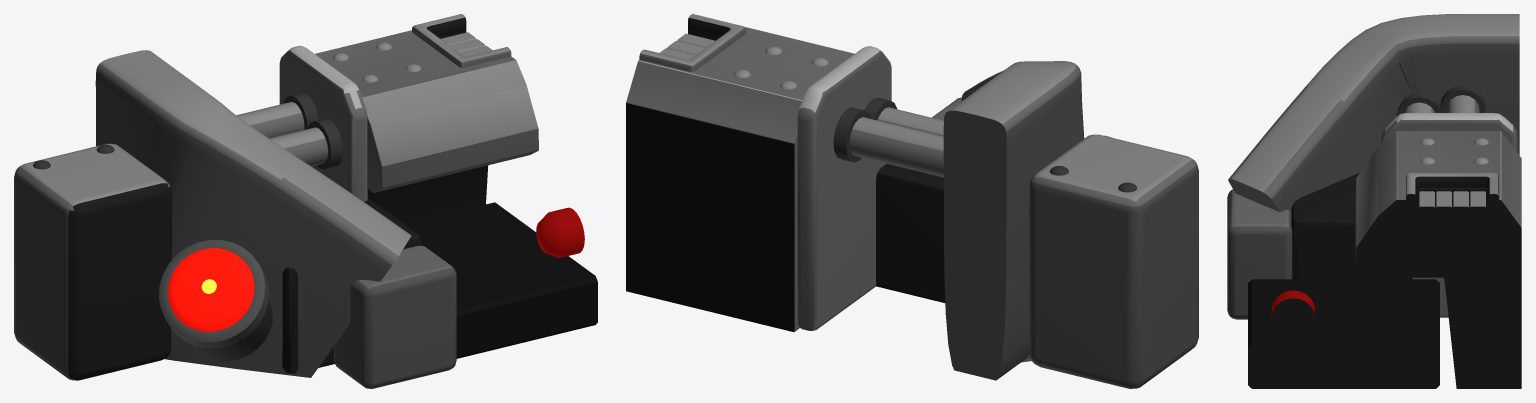
The model's file is jaw_gun_b_left.glb.
3 views of the same model, side by side, from view 1: azimuth 30°, elevation 25°; view 2: azimuth 150°, elevation 25°; view 3: azimuth 270°, elevation 25° (orthographic). The views are drawn at different scales.
Parts seen in each view (by area): view 1: bracket.001, pod.001, upper_jaw.001, mouth_floor.001, bracket_foot.001, flange.001, muzzle_lens.001, barrel.001, base.001, throat_lamp.001, bezel.001, rod0.001 (+3 smaller); view 2: upper_jaw.001, pod.001, bracket.001, flange.001, base.001, rod0.001, bezel.001, rod1.001, rod0_collar0.001; view 3: upper_jaw.001, bracket.001, mouth_floor.001, base.001, bracket_foot.001, flange.001, bezel.001, throat_lamp.001, rod0_collar1.001, rod0.001, slat_rail1.001, rod1_collar1.001 (+4 smaller).
Boxes of the visible parts, <box> form: bracket.001: <box>95,50,411,377</box>; pod.001: <box>14,143,171,380</box>; upper_jaw.001: <box>315,24,538,224</box>; mouth_floor.001: <box>405,202,597,358</box>; bracket_foot.001: <box>334,245,456,388</box>; flange.001: <box>279,45,367,201</box>; muzzle_lens.001: <box>168,248,254,331</box>; barrel.001: <box>158,240,272,361</box>; base.001: <box>282,198,421,373</box>; throat_lamp.001: <box>536,207,584,257</box>; bezel.001: <box>412,14,511,67</box>; rod0.001: <box>236,101,304,138</box>; upper_jaw.001: <box>626,24,854,331</box>; pod.001: <box>1029,134,1198,388</box>; bracket.001: <box>943,61,1084,380</box>; flange.001: <box>797,46,891,330</box>; base.001: <box>876,163,945,302</box>; rod0.001: <box>849,117,943,177</box>; bezel.001: <box>639,14,745,71</box>; rod1.001: <box>877,107,943,136</box>; rod0_collar0.001: <box>833,107,871,162</box>; upper_jaw.001: <box>1355,131,1521,388</box>; bracket.001: <box>1228,14,1519,211</box>; mouth_floor.001: <box>1248,279,1439,388</box>; base.001: <box>1291,172,1412,279</box>; bracket_foot.001: <box>1227,189,1292,319</box>; flange.001: <box>1381,113,1517,317</box>; bezel.001: <box>1406,173,1498,209</box>; throat_lamp.001: <box>1271,290,1314,337</box>; rod0_collar1.001: <box>1440,85,1485,112</box>; rod0.001: <box>1446,95,1479,112</box>; slat_rail1.001: <box>1417,187,1487,209</box>; rod1_collar1.001: <box>1396,93,1440,116</box>.
Size of the model in its own units: 23.4 by 11.85 by 14.25.
